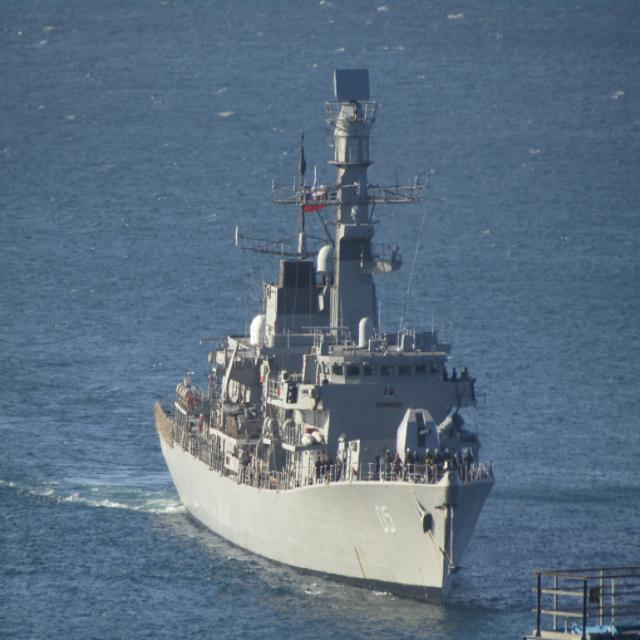Fragata: (148, 33, 495, 615)
